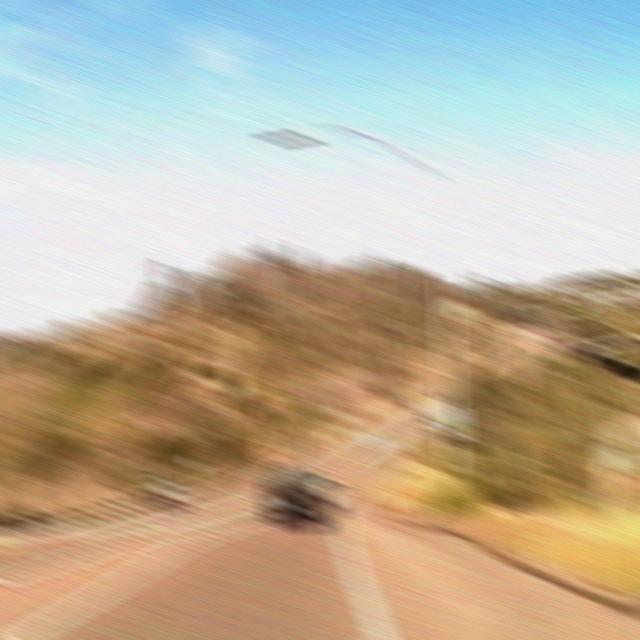speedLimit50: (432, 399, 466, 436)
